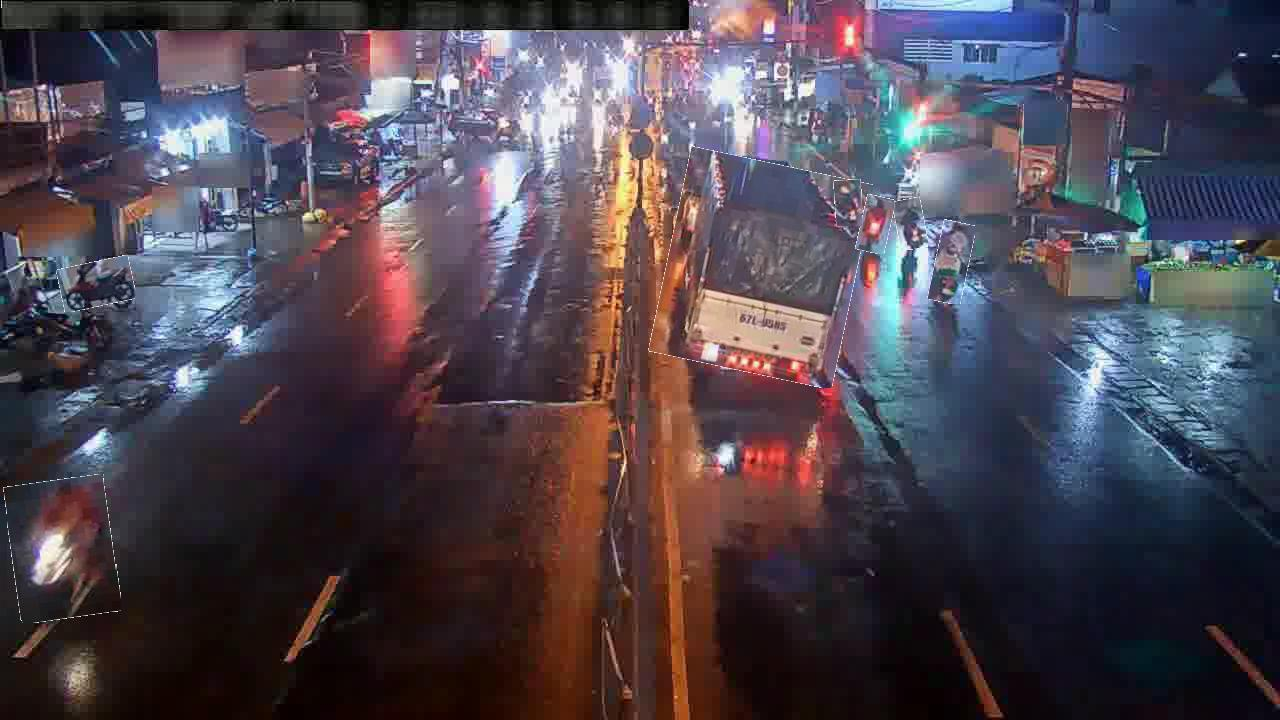8: (658, 155, 865, 381)
motorbike: (8, 477, 118, 621), (58, 258, 135, 310), (931, 221, 972, 304), (858, 196, 893, 254), (895, 198, 927, 250), (834, 180, 863, 227)
